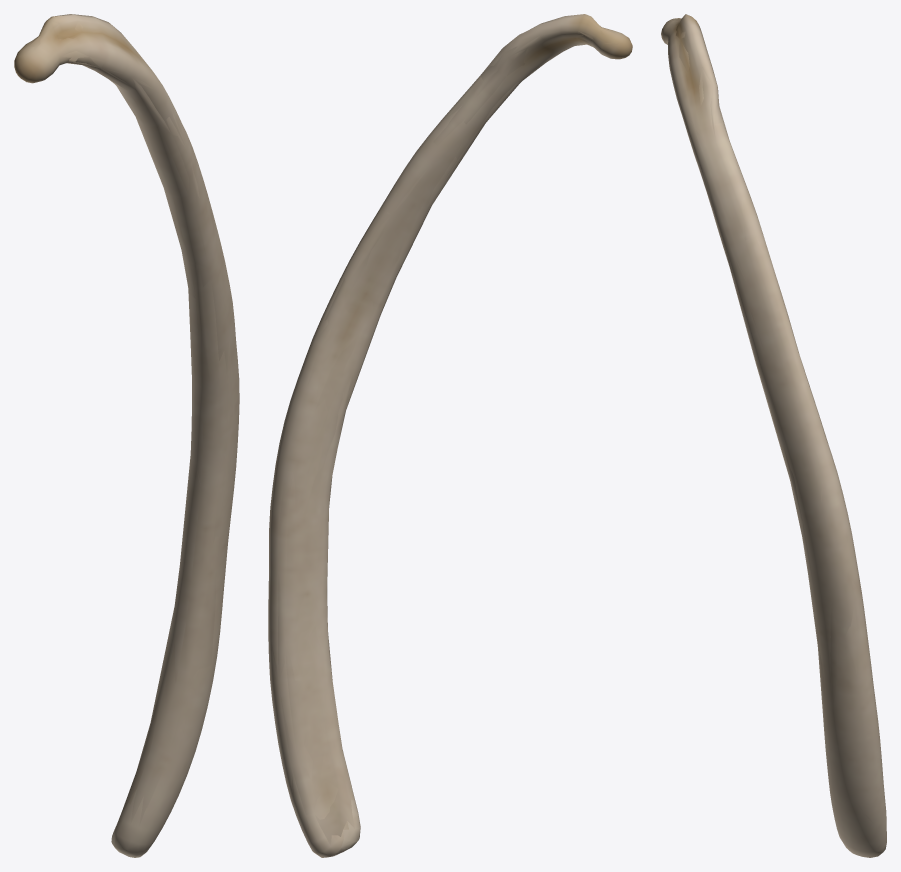
File: Rib L06.fbx
3 renders of one model, left to right at view 1: azimuth 30°, elevation 25°; view 2: azimuth 150°, elevation 25°; view 3: azimuth 270°, elevation 25°, orthographic. The views are drawn at different scales.
Visible parts, largest first — view 1: Rib L06 low, Rib L06; view 2: Rib L06, Rib L06 low; view 3: Rib L06, Rib L06 low.
Boxes of the visible parts, x1,y1,x2,y2 form: Rib L06 low: (18,14,236,856); Rib L06: (14,14,239,857); Rib L06: (268,14,632,857); Rib L06 low: (269,15,622,856); Rib L06: (661,14,886,857); Rib L06 low: (668,14,886,843).
Size of the model in its own units: 16.73 by 48.12 by 12.83.
1 material, 1 textured.
